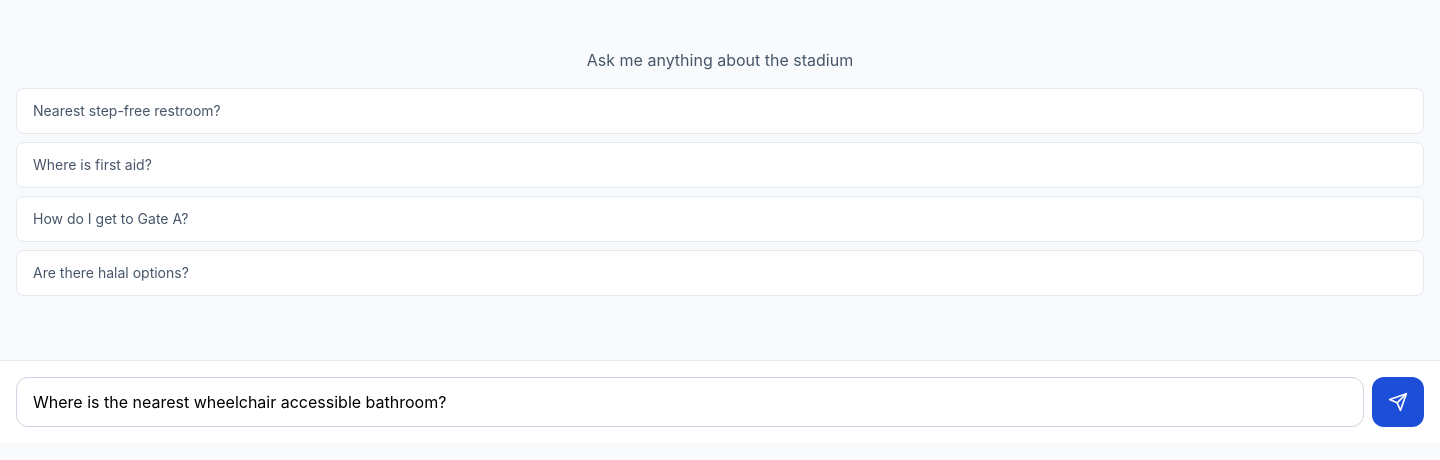
Test: ChatInterface › shows loading state while fetching
Replace the text in the field with placeholder "Ask about the stadium..." with "Where is the exit?": (690, 402) [16,377,1364,427]
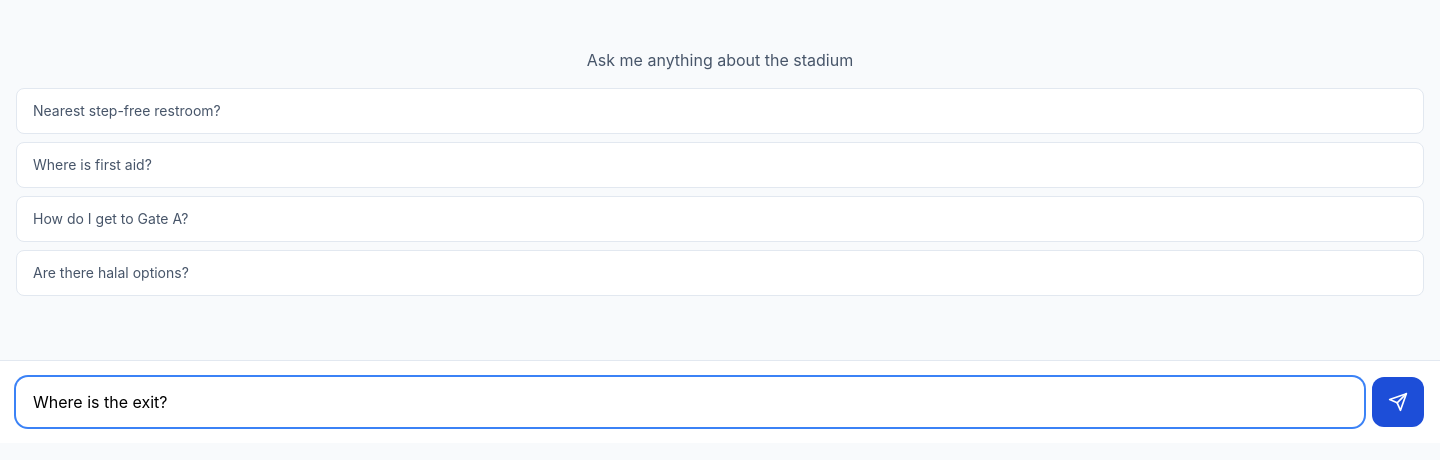
Submit the form with id "chat-form", box [0,360,1439,443]
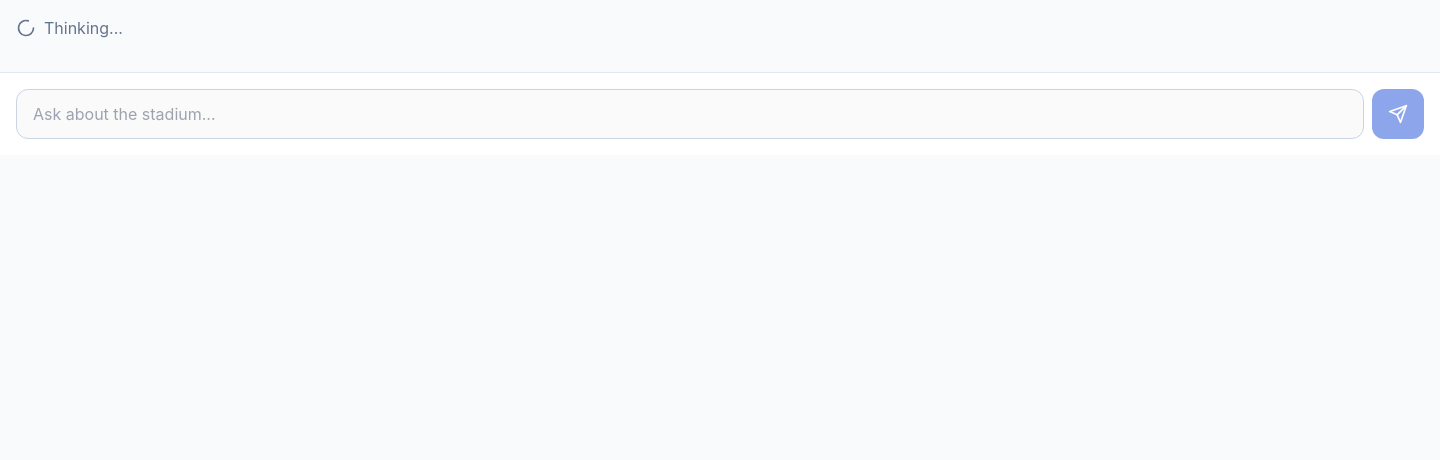
Check: the text "Thinking..." is shown, box [44,16,123,40]
